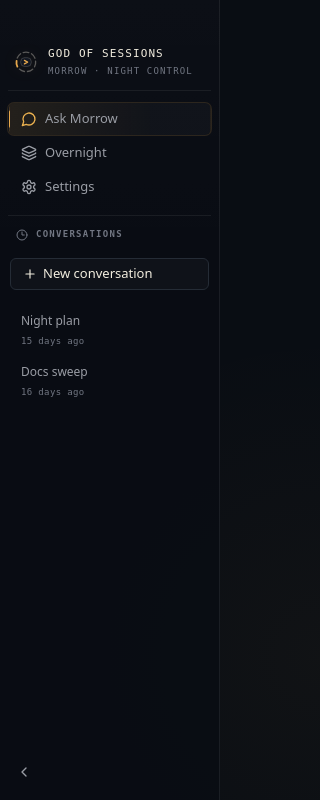
Scenario: V2 navigation › collapses the rail from the footer chevron and expands it again
Expected: the text "GOD OF SESSIONS" is shown, [48,47,164,60]
Expected: the button "Night plan 15 days ago" is shown, [8,306,211,355]
Click the button named "Collapse sidebar": coordinates (24, 772) [8,756,40,788]
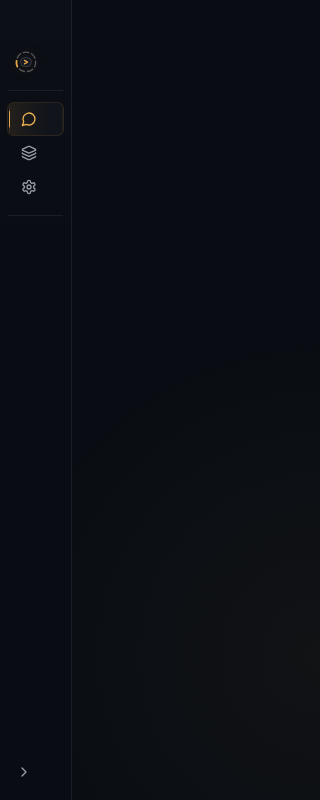
Expected: the 3rd icon is shown, [21,111,37,127]
Expected: the button "Night plan" is gone
Expected: the button named "Expand sidebar" is collapsed
Click the button named "Expand sidebar": coordinates (24, 772) [8,756,40,788]
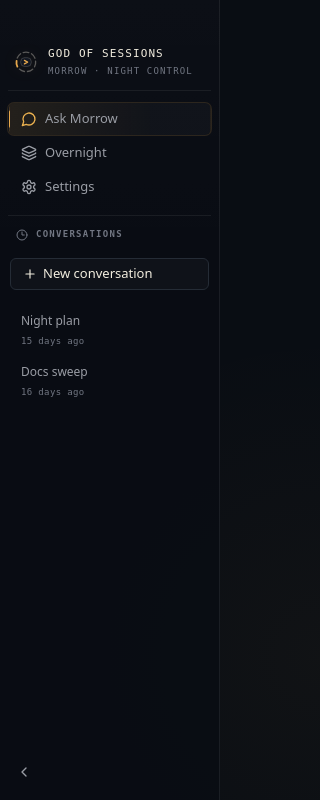
Expected: the text "GOD OF SESSIONS" is shown, [48,47,164,60]
Expected: the button "Night plan 15 days ago" is shown, [8,306,211,355]
Expected: the button named "Collapse sidebar" is expanded, [8,756,40,788]
